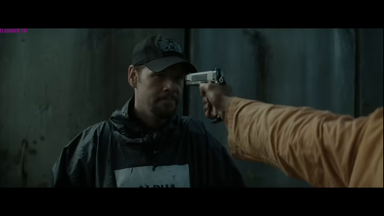firearm: (183, 67, 228, 90)
